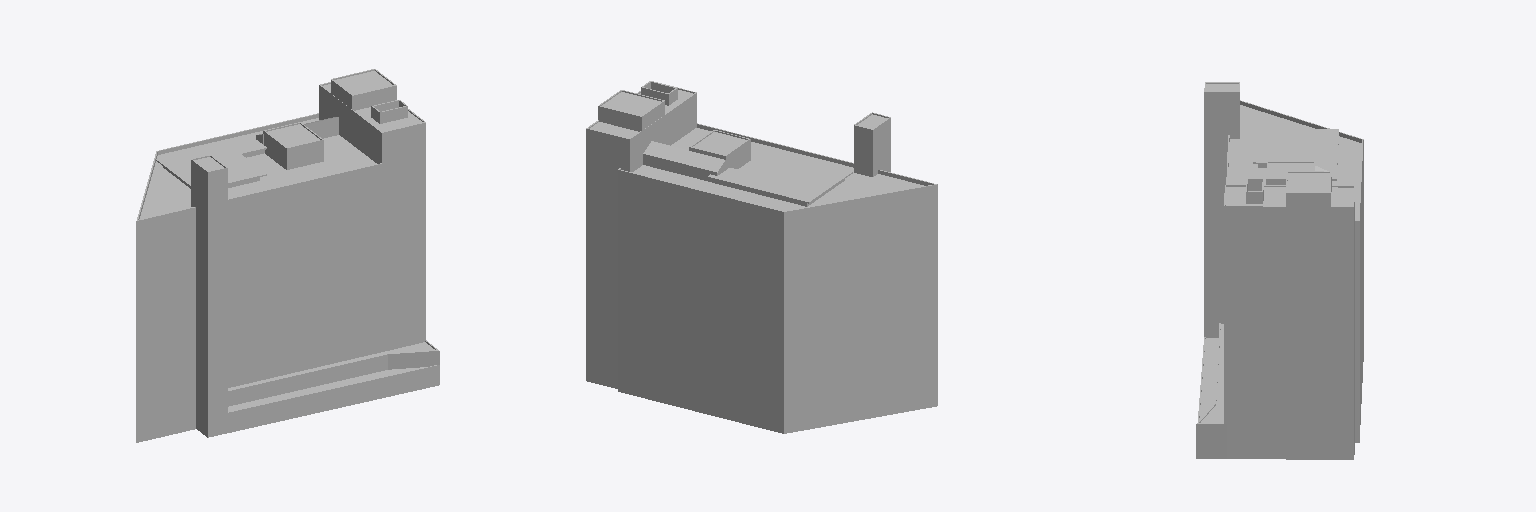
File: hospital_10.obj
The picture shows the model from 3 angles: view 1: azimuth 30°, elevation 25°; view 2: azimuth 150°, elevation 25°; view 3: azimuth 270°, elevation 25°; orthographic projection.
Visible parts, largest first — view 1: object_1; view 2: object_1; view 3: object_1.
Boxes of the visible parts, x1=… form: object_1: x1=136, y1=69, x2=439, y2=442; object_1: x1=586, y1=81, x2=937, y2=433; object_1: x1=1196, y1=82, x2=1363, y2=459.
Bounding box in the file's own units: 236 × 208 × 118.